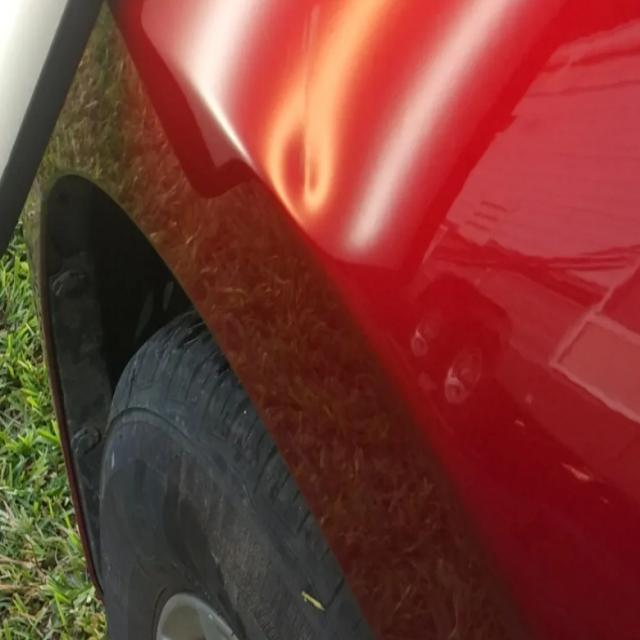dents: (269, 76, 482, 236)
